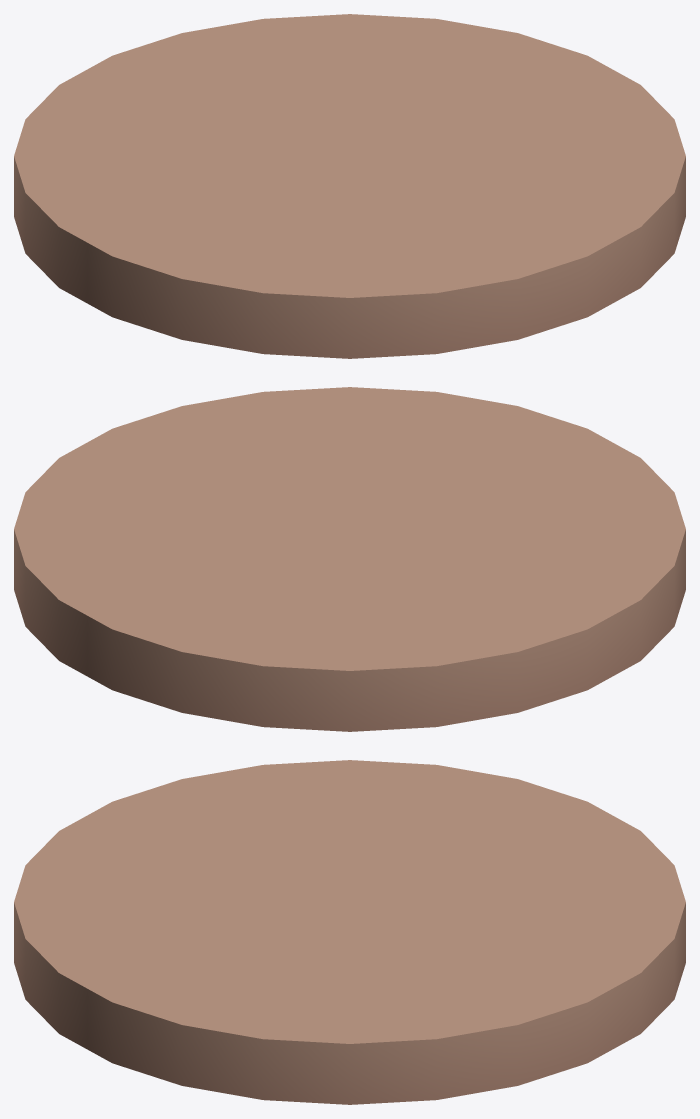
The model's file is surfaces-surface-round.glb.
3 renders of one model, top to bottom at view 1: azimuth 30°, elevation 25°; view 2: azimuth 150°, elevation 25°; view 3: azimuth 270°, elevation 25°, orthographic.
Parts seen in each view (by area): view 1: surfaces-surface-round; view 2: surfaces-surface-round; view 3: surfaces-surface-round.
Boxes of the visible parts, x1,y1,x2,y2 form: surfaces-surface-round: (14,14,685,358); surfaces-surface-round: (14,387,685,731); surfaces-surface-round: (14,760,685,1104).
Bounding box in the file's own units: 1 × 0.1 × 1.
